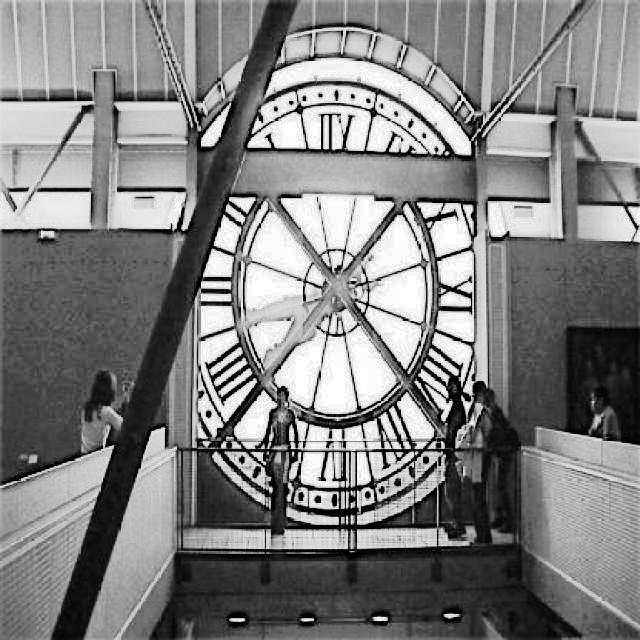Person: (454, 375, 500, 552), (258, 379, 303, 542), (76, 365, 136, 458), (441, 373, 474, 542)
